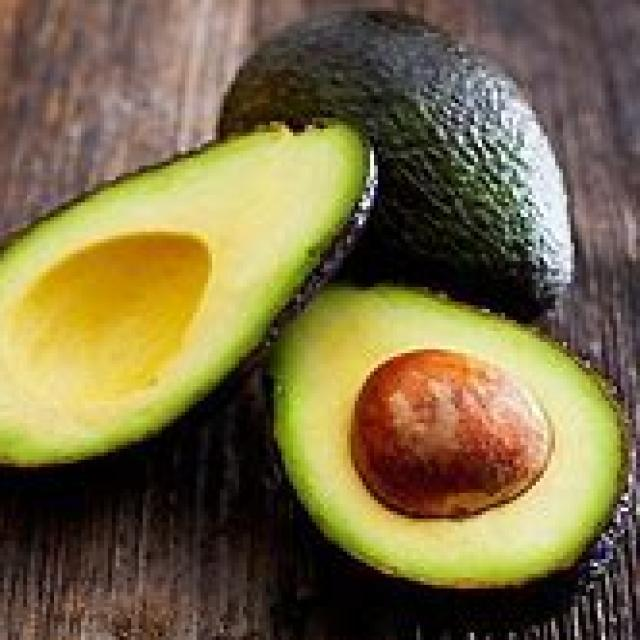avocado: (0, 112, 372, 481), (205, 9, 580, 324), (273, 279, 631, 596)
